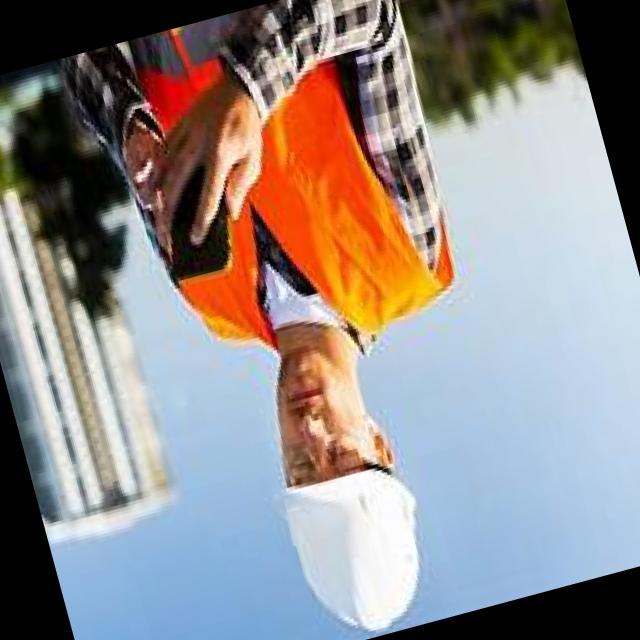not-gloved: (136, 91, 294, 248)
